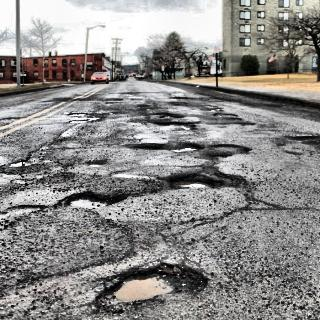pothole: (89, 269, 200, 310), (136, 140, 208, 158), (63, 185, 113, 208), (173, 172, 218, 197), (209, 90, 267, 108), (213, 108, 253, 129), (84, 151, 118, 172), (8, 156, 40, 178), (287, 126, 315, 150), (62, 112, 93, 129), (167, 90, 190, 110), (156, 119, 192, 131)
